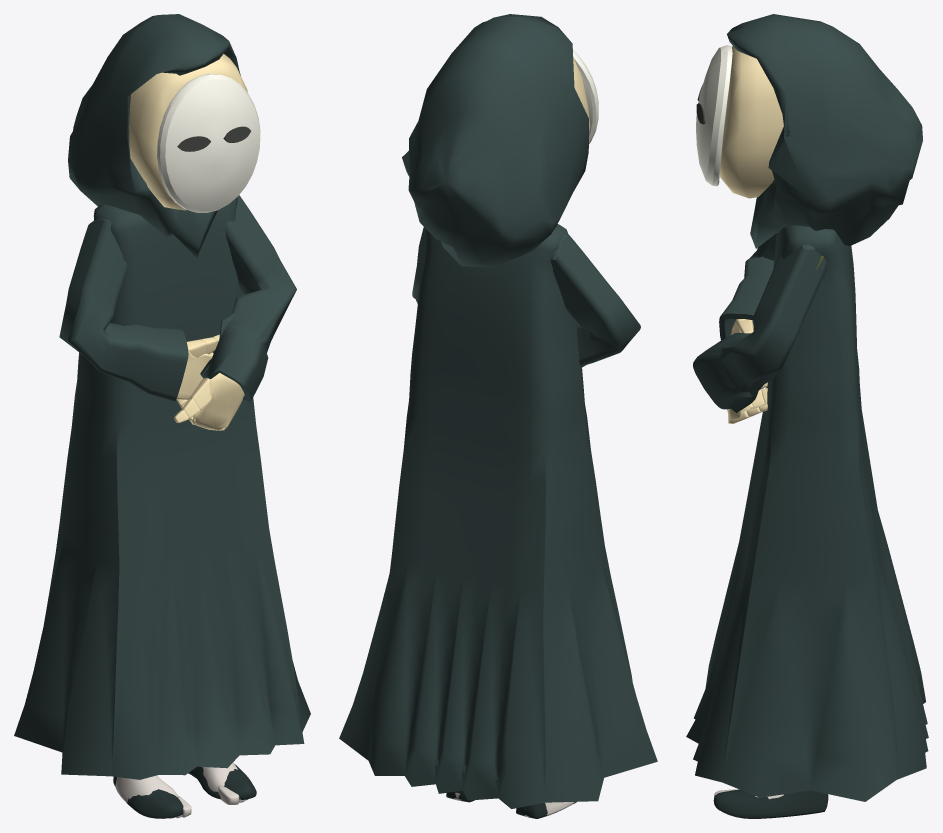
Rendered from Scorpio.fbx.
The picture shows the model from 3 angles, left to right: view 1: azimuth 30°, elevation 25°; view 2: azimuth 150°, elevation 25°; view 3: azimuth 270°, elevation 25°; orthographic projection.
Parts seen in each view (by area): view 1: polySurface3, Caputxa1, polySurface8, màscara, polySurface9, head_geo, R_palm_R_geo (×2), foot_R_geo, foot_L_geo, foot_R_geo1; view 2: polySurface3, Caputxa1, polySurface8, màscara; view 3: polySurface3, Caputxa1, polySurface9, head_geo, màscara, foot_L_geo, polySurface8.
Boxes of the visible parts, x1,y1,x2,y2 form: polySurface3: [14, 197, 310, 779]; Caputxa1: [68, 14, 240, 257]; polySurface8: [59, 218, 188, 401]; màscara: [157, 73, 260, 212]; polySurface9: [200, 195, 296, 401]; head_geo: [129, 53, 247, 210]; R_palm_R_geo (×2): [176, 351, 244, 430]; foot_R_geo: [113, 776, 183, 818]; foot_L_geo: [188, 764, 256, 799]; foot_R_geo1: [115, 775, 178, 802]; polySurface3: [339, 224, 657, 808]; Caputxa1: [402, 14, 588, 267]; polySurface8: [550, 232, 640, 367]; màscara: [573, 49, 598, 143]; polySurface3: [686, 225, 928, 801]; Caputxa1: [727, 14, 922, 248]; polySurface9: [693, 244, 827, 413]; head_geo: [719, 46, 783, 198]; màscara: [696, 45, 732, 186]; foot_L_geo: [713, 789, 828, 818]; polySurface8: [719, 233, 776, 340].
Bounding box in the file's own units: 1.24 × 3.48 × 0.9859.
